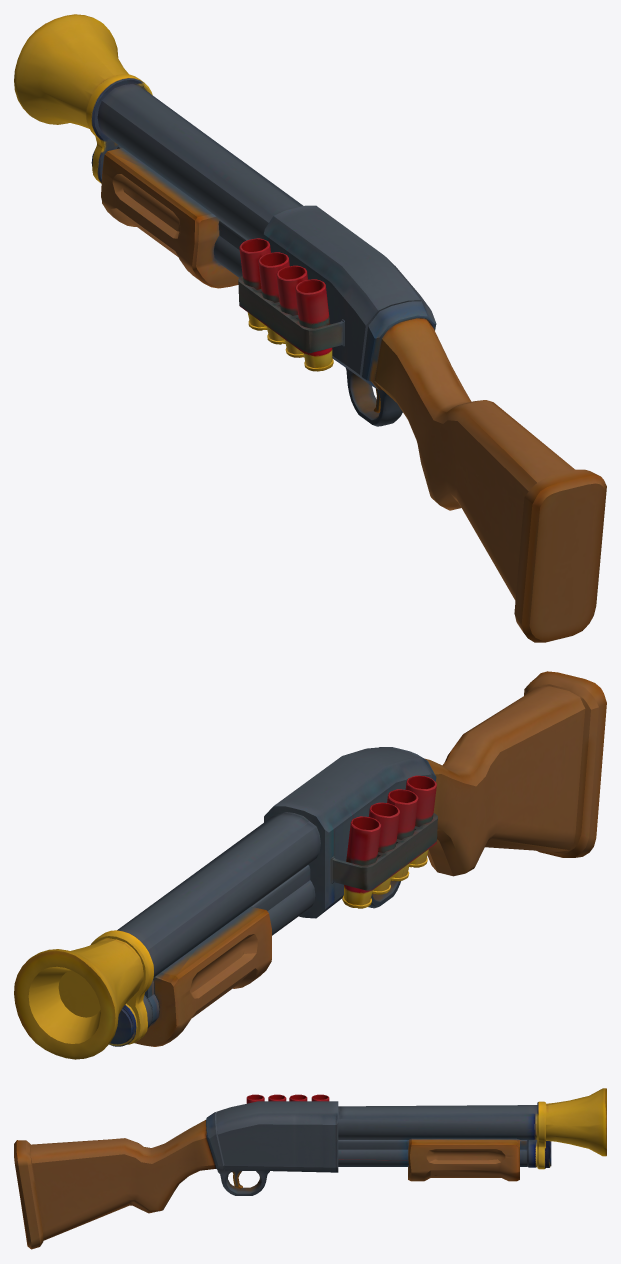
Rendered from fracas.glb.
3 renders of one model, top to bottom at view 1: azimuth 30°, elevation 25°; view 2: azimuth 150°, elevation 25°; view 3: azimuth 270°, elevation 25°, orthographic. The views are drawn at different scales.
Parts seen in each view (by area): view 1: wpn_fracas; view 2: wpn_fracas; view 3: wpn_fracas.
Part boxes in pixels (x1=…): wpn_fracas: x1=14, y1=14, x2=606, y2=642; wpn_fracas: x1=14, y1=671, x2=606, y2=1059; wpn_fracas: x1=14, y1=1088, x2=606, y2=1249.
Size of the model in its own units: 0.1286 by 0.2696 by 0.95.
1 material, 1 textured.
